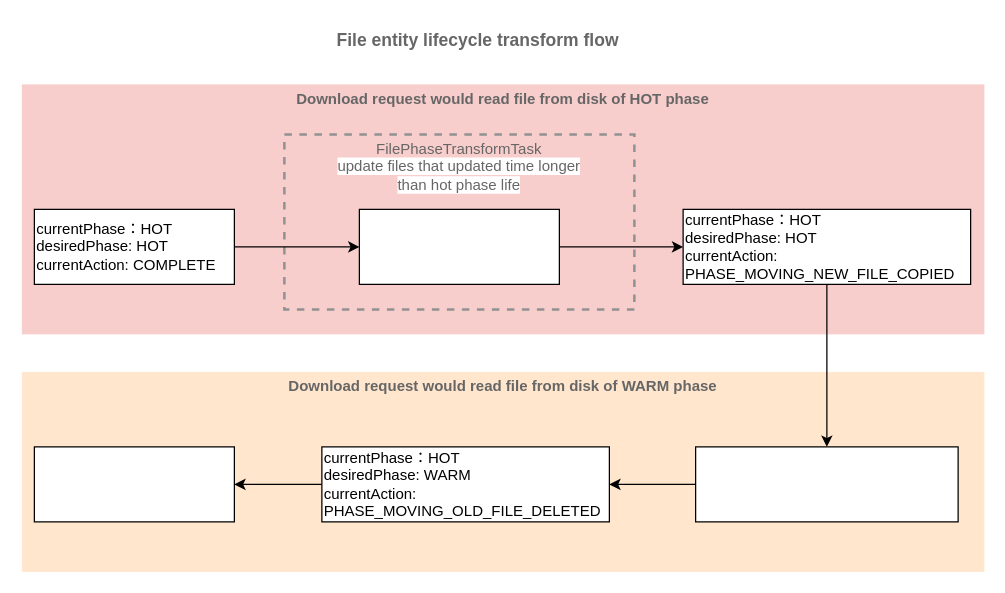
This 1005x593 diagram has some shape labels left out. Here are the shapes that lost their labels. From the top down, the centre of each, then its label:
At point 458,246: "currentPhase：HOT desiredPhase: WARM currentAction: PHASE_MOVING_INIT".
At point 133,484: "currentPhase：WARM desiredPhase: WARM currentAction: COMPLETE".
At point 826,484: "currentPhase：HOT desiredPhase: HOT currentAction: PHASE_MOVING_PATH_CHANGED".
